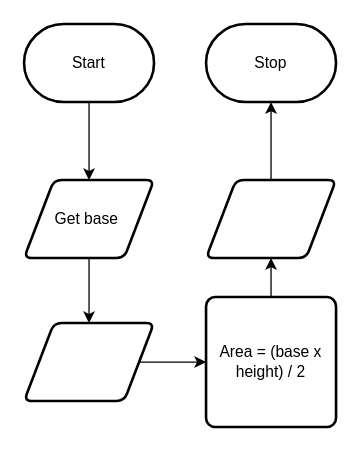
This 359x450 diagram has some shape labels left out. The shapes that lost their labels are listed below. From the top down, each one's centre as x and y in pixels, then its label:
At [270,218]: "Show area".
At [88,361]: "Get height".
